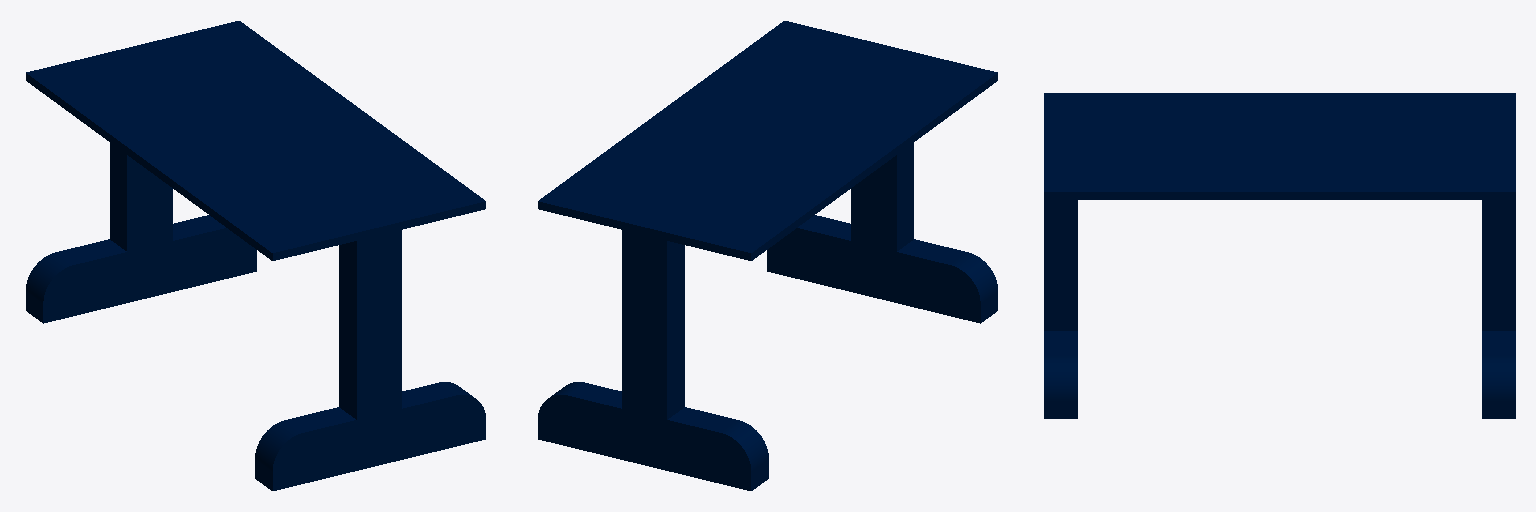
robot.urdf — table:
<?xml version="1.0" ?>
<!-- =================================================================================== -->
<!-- |    This document was autogenerated by xacro from /home/gepetto/ros2_ws/install/agimus_demo_04_dual_arm_tiago_pro/share/agimus_demo_04_dual_arm_tiago_pro/urdf/table.urdf.xacro | -->
<!-- |    EDITING THIS FILE BY HAND IS NOT RECOMMENDED                                 | -->
<!-- =================================================================================== -->
<robot name="table">
  <material name="Blue">
    <color rgba="0.0 0.11764705882352941 0.27450980392156865 1.0"/>
  </material>
  <link name="base_link">
    <visual>
      <origin rpy="0 0 0" xyz="0.6 0 0.585"/>
      <geometry>
        <mesh filename="package://agimus_demo_04_dual_arm_tiago_pro/meshes/table.stl" scale="0.001 0.001 0.001"/>
      </geometry>
      <material name="Blue"/>
    </visual>
    <collision>
      <origin rpy="0 0 0" xyz="0.6 0 0.585"/>
      <geometry>
        <mesh filename="package://agimus_demo_04_dual_arm_tiago_pro/meshes/table.stl" scale="0.001 0.001 0.001"/>
      </geometry>
    </collision>
  </link>
</robot>

--- Render facts (derived) ---
Views: 3 orthographic renders of the robot side by side, from view 1: azimuth 30°, elevation 25°; view 2: azimuth 150°, elevation 25°; view 3: azimuth 270°, elevation 25°.
Model table with 1 links and 0 joints (none), rooted at base_link, posed all joints at 0.
Links seen in each view (by area): view 1: base_link; view 2: base_link; view 3: base_link.
Link boxes in pixels (x1,y1,x2,y2): base_link: [26, 21, 485, 490]; base_link: [538, 21, 997, 490]; base_link: [1044, 93, 1515, 418].
Bounding box of the posed robot: 0.7 × 1.4 × 0.745 m (x, y, z).
Meshes: 1 distinct files referenced, 1 mesh visuals loaded (1 binary STL).
